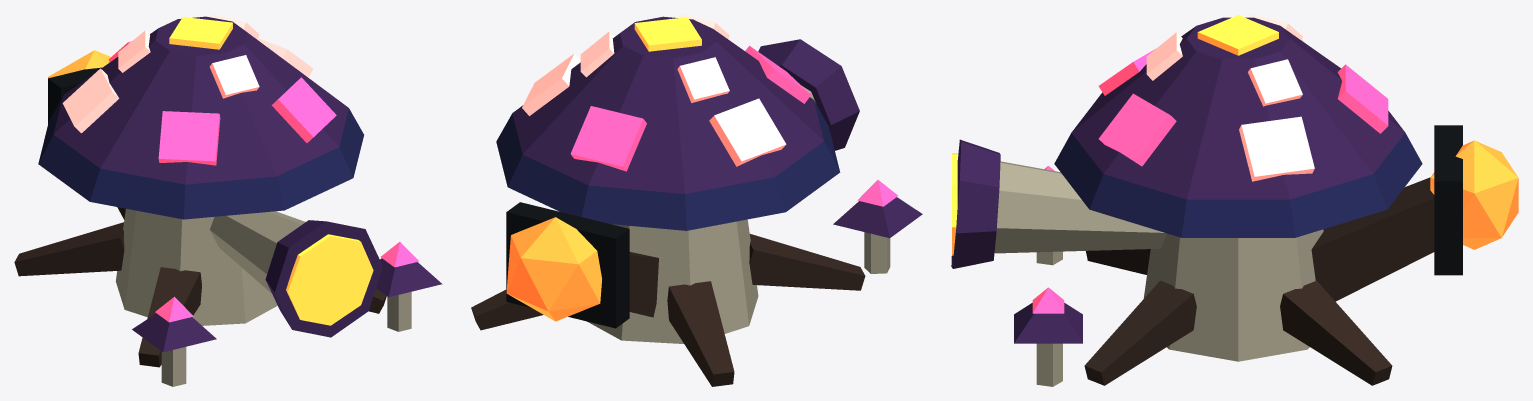
The model's file is turret.glb.
3 renders of one model, left to right at view 1: azimuth 30°, elevation 25°; view 2: azimuth 150°, elevation 25°; view 3: azimuth 270°, elevation 25°, orthographic. The views are drawn at different scales.
Visible parts, largest first — view 1: FTurretHull, FTurretGlow; view 2: FTurretHull, FTurretGlow; view 3: FTurretHull, FTurretGlow.
Part boxes in pixels (x1,y1,x2,y2): FTurretHull: [14, 16, 442, 386]; FTurretGlow: [48, 14, 419, 325]; FTurretHull: [471, 16, 922, 386]; FTurretGlow: [506, 14, 898, 321]; FTurretHull: [951, 17, 1462, 386]; FTurretGlow: [952, 14, 1518, 313].
Bounding box in the file's own units: 1.24 × 1.11 × 1.97.
